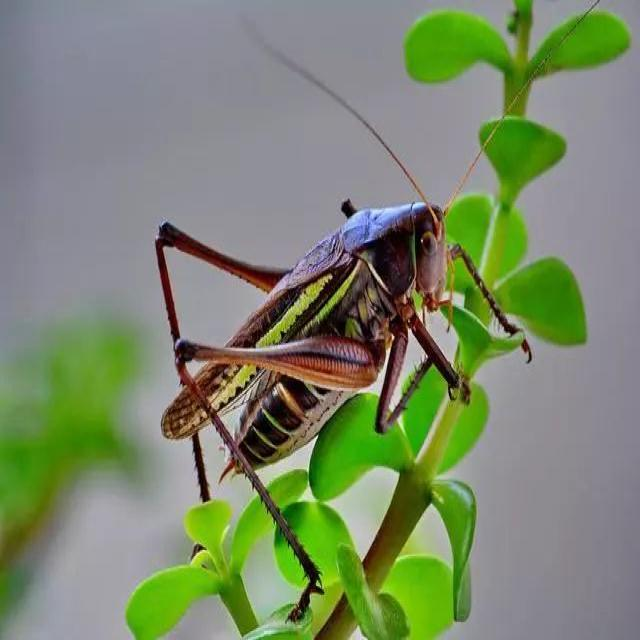ZhaMeng: (150, 166, 476, 594)
